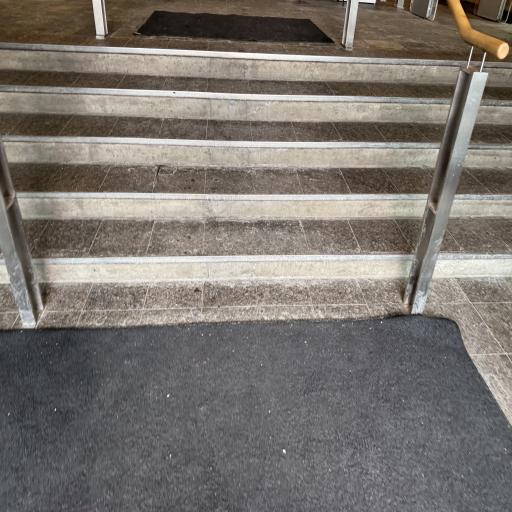Stairs: (0, 44, 512, 282)
